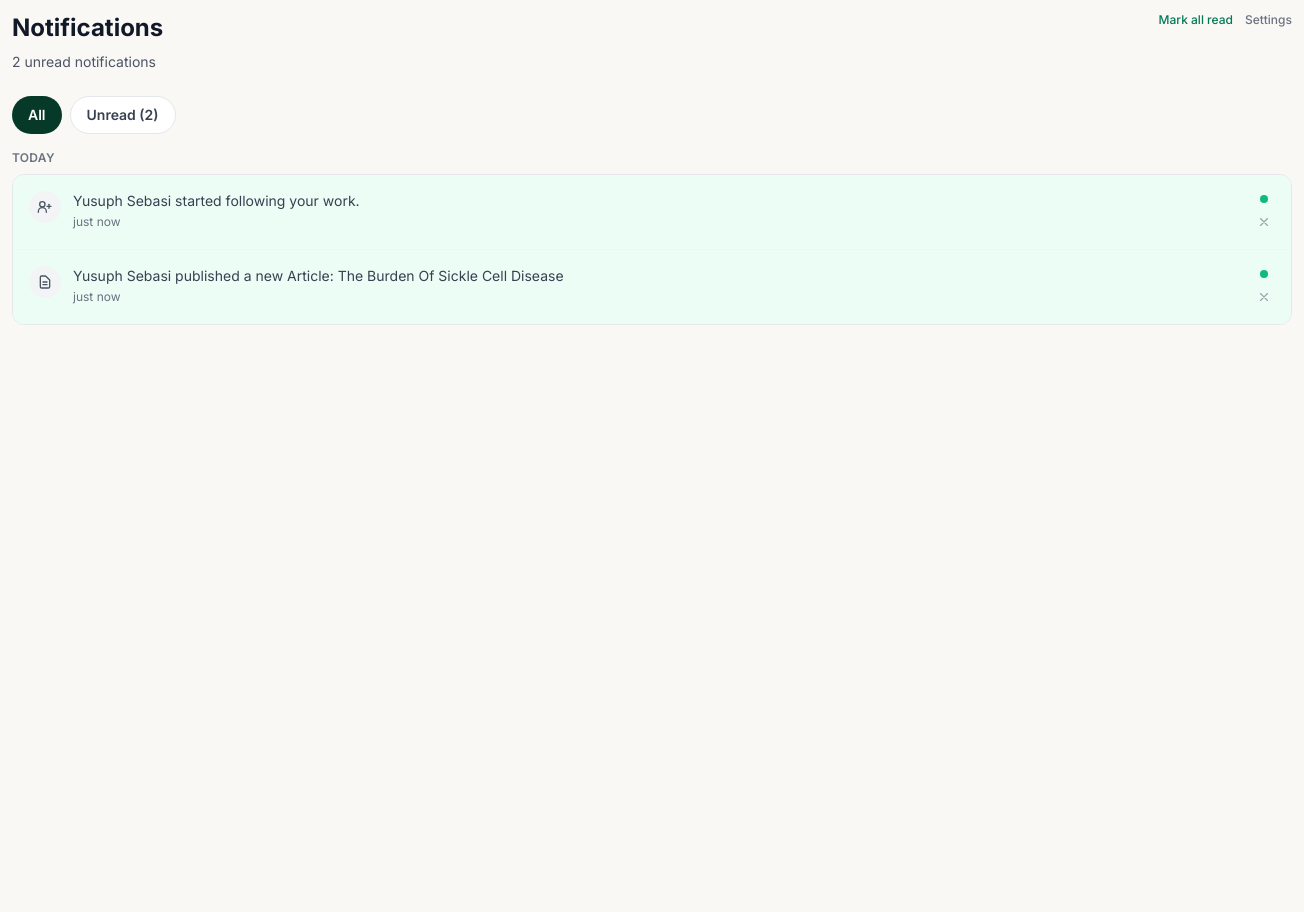
Test: mark all read › explains a unique-violation conflict rather than failing silently
Step 1. Click the button "Mark all read" → (1196, 20), box [1158,12,1233,28]
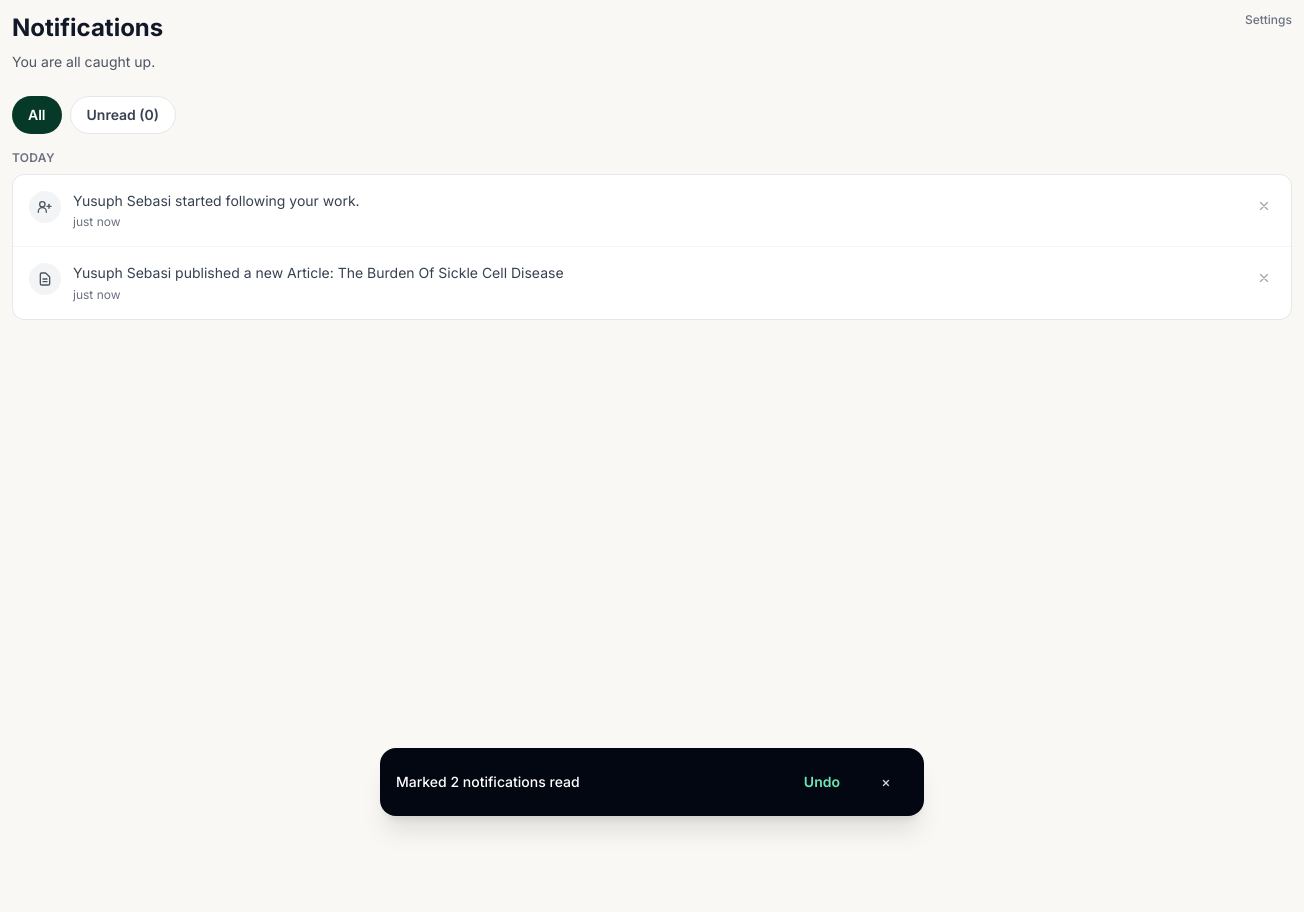
Step 2. Click the button "Undo" → (822, 782), box [792,760,852,804]
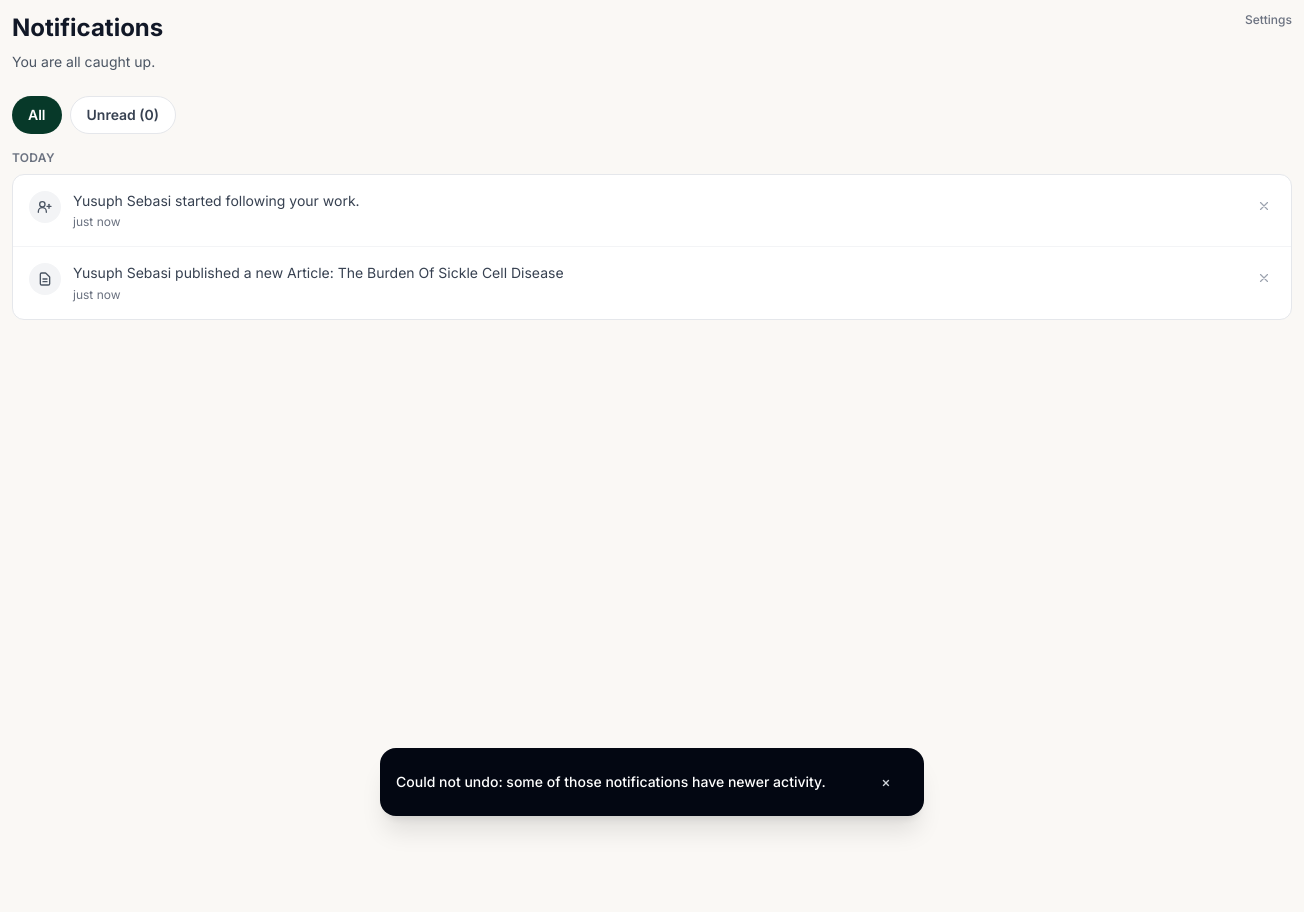
Expected: the message does not show "duplicate key", [380,748,924,816]
Result: the message shows "some of those notifications have newer activity" at [396,773,826,790]
